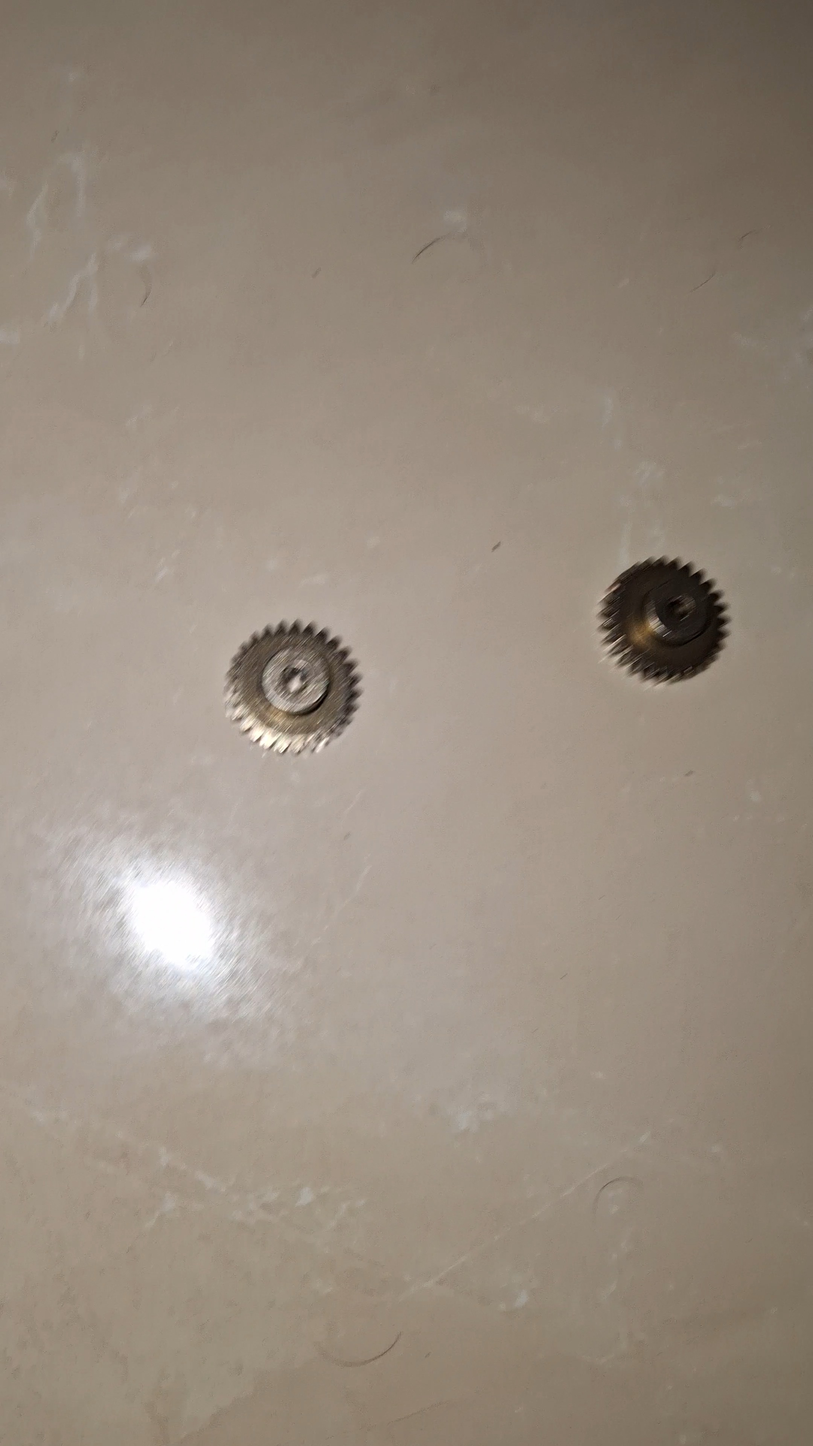spur gear: (225, 622, 360, 753), (600, 558, 727, 682)
